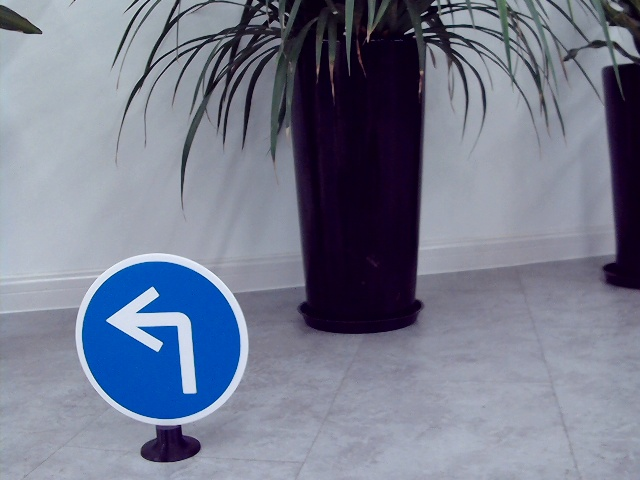turn_left: (108, 283, 205, 397)
